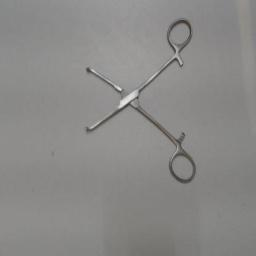Allis Tissue Forceps: (82, 14, 202, 186)
